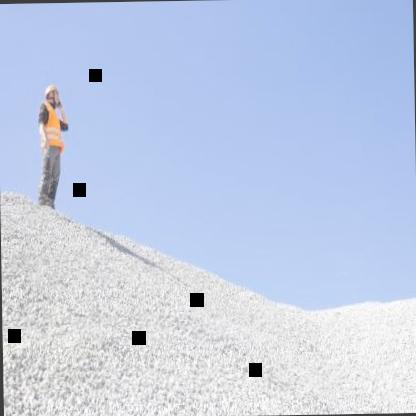helmet: (39, 82, 62, 109)
